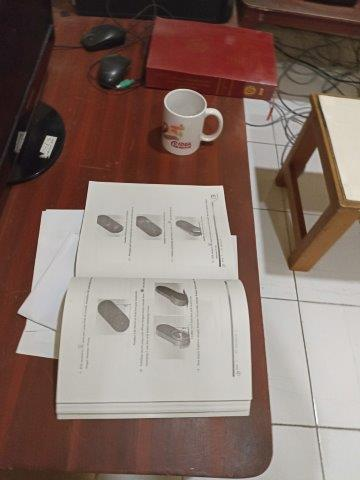kertas: (15, 180, 253, 420)
